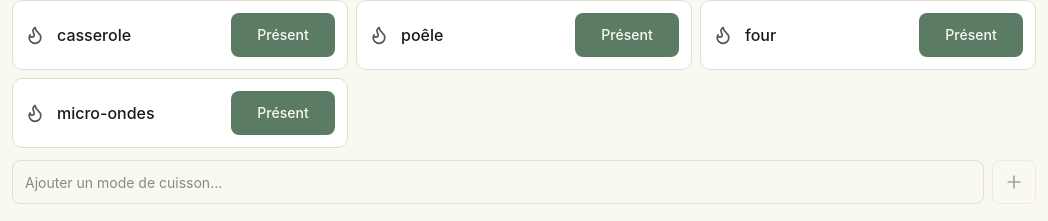
CookingModesSection › bascule présent/absent et affiche le libellé en toutes lettres
The width and height of the screenshot is (1048, 221).
Click the switch named "casserole".
click(283, 35)  # box [231, 13, 335, 57]
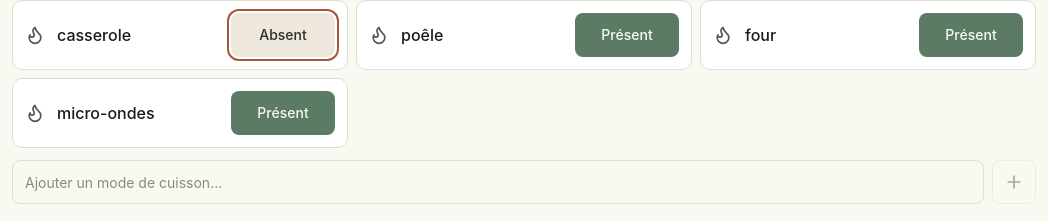
Expected: the switch named "casserole" reads "Absent", [231, 13, 335, 57]
